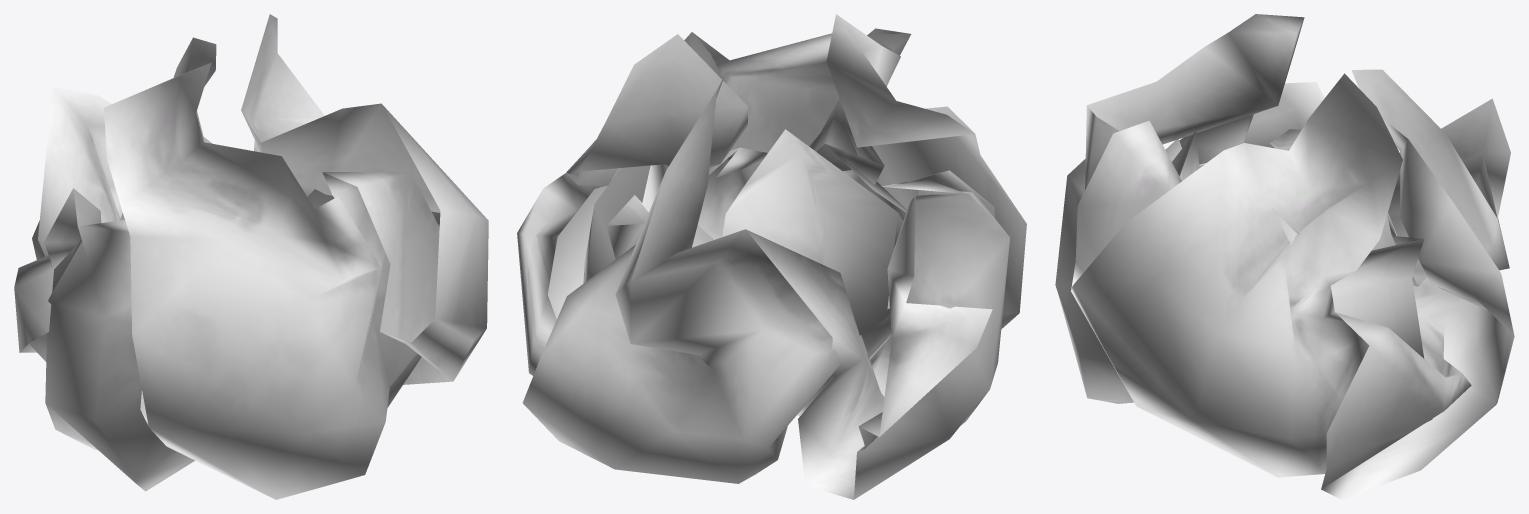
The picture shows the model from 3 angles, left to right: view 1: azimuth 30°, elevation 25°; view 2: azimuth 150°, elevation 25°; view 3: azimuth 270°, elevation 25°; orthographic projection. The views are drawn at different scales.
Parts seen in each view (by area): view 1: SM_PaperBall_0; view 2: SM_PaperBall_0; view 3: SM_PaperBall_0.
Boxes of the visible parts, box(x1,y1,x2,y2) form: SM_PaperBall_0: box(14, 14, 488, 499); SM_PaperBall_0: box(517, 14, 1026, 499); SM_PaperBall_0: box(1055, 14, 1514, 499).
Bounding box in the file's own units: 0.1889 × 0.1791 × 0.1865.
1 material, 1 textured.
